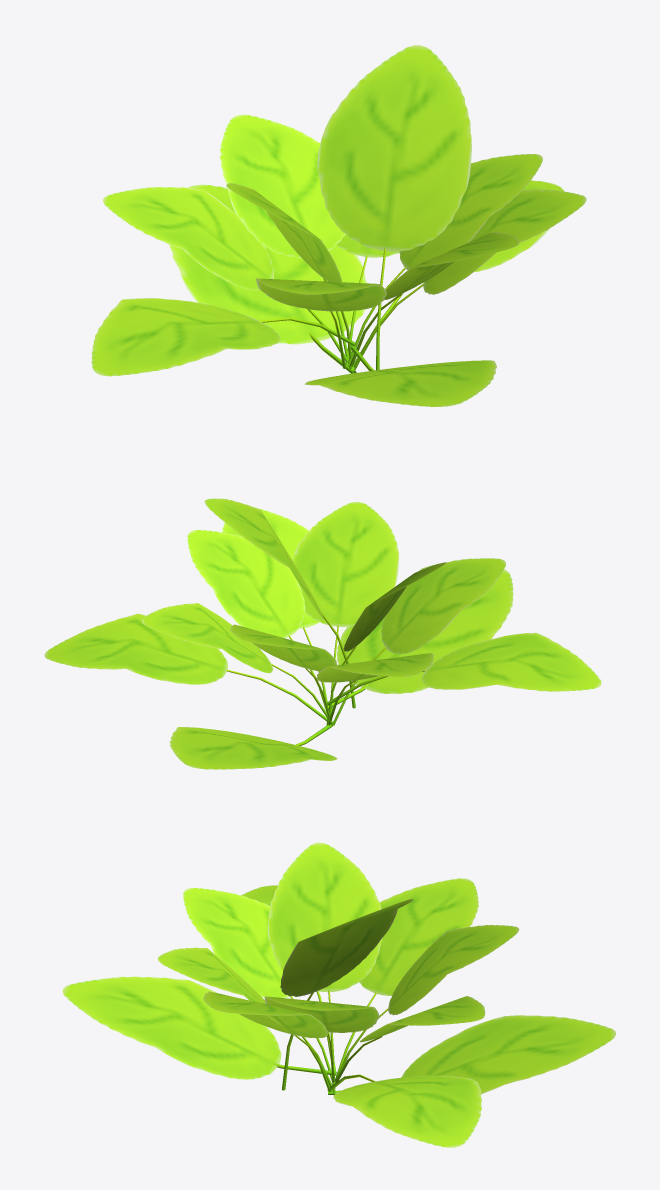
File: plant_24.fbx
3 views of the same model, one above another, from view 1: azimuth 30°, elevation 25°; view 2: azimuth 150°, elevation 25°; view 3: azimuth 270°, elevation 25° (orthographic). The views are drawn at different scales.
Visible parts, largest first — view 1: plant_24; view 2: plant_24; view 3: plant_24.
Part boxes in pixels (x1,y1,x2,y2): plant_24: (91, 45, 586, 406); plant_24: (44, 498, 601, 769); plant_24: (62, 842, 615, 1147).
Bounding box in the file's own units: 287 × 123 × 270.
